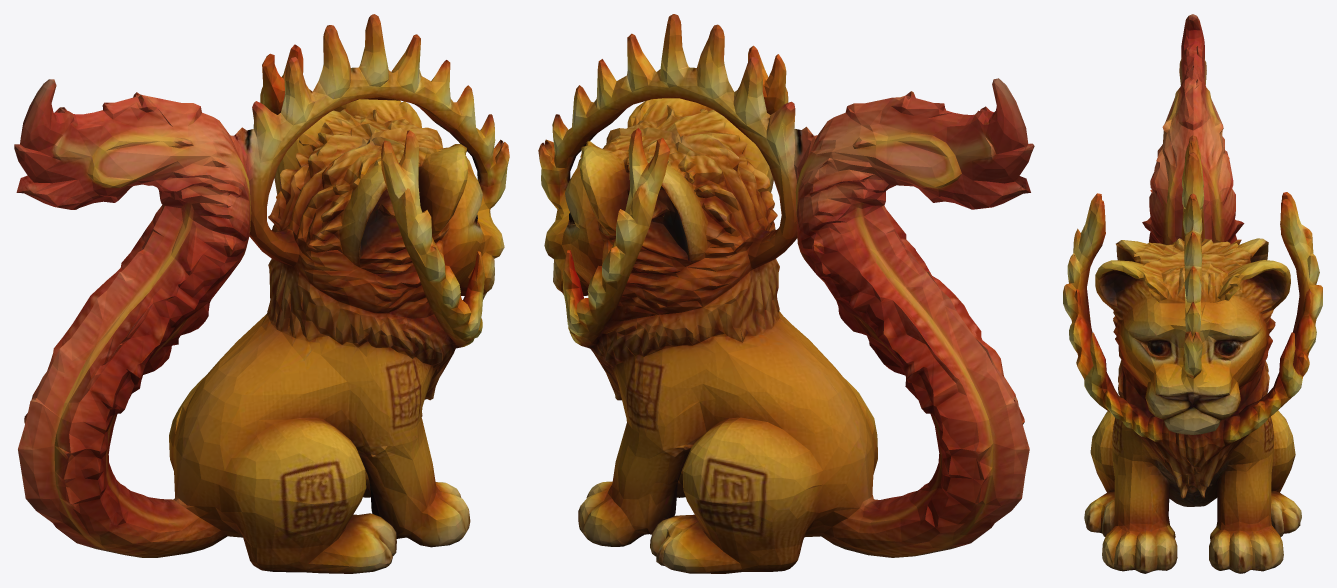
The model's file is emberwick.glb.
3 renders of one model, left to right at view 1: azimuth 30°, elevation 25°; view 2: azimuth 150°, elevation 25°; view 3: azimuth 270°, elevation 25°, orthographic. The views are drawn at different scales.
Parts seen in each view (by area): view 1: world; view 2: world; view 3: world.
Part boxes in pixels (left/top/right/bottom): world: left=14, top=14, right=509, bottom=573; world: left=538, top=14, right=1034, bottom=573; world: left=1063, top=14, right=1322, bottom=573.
Size of the model in its own units: 0.9977 by 0.9978 by 0.566.
Materials: 1 (1 with a texture image).
